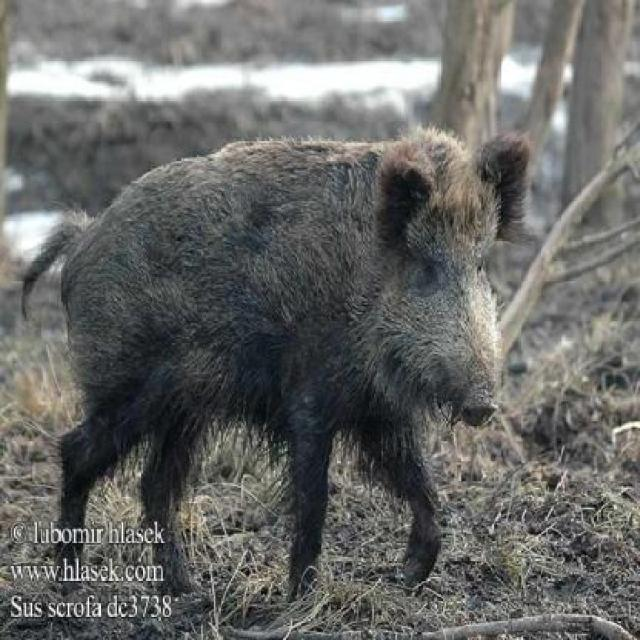wildboar: (12, 117, 536, 620)
